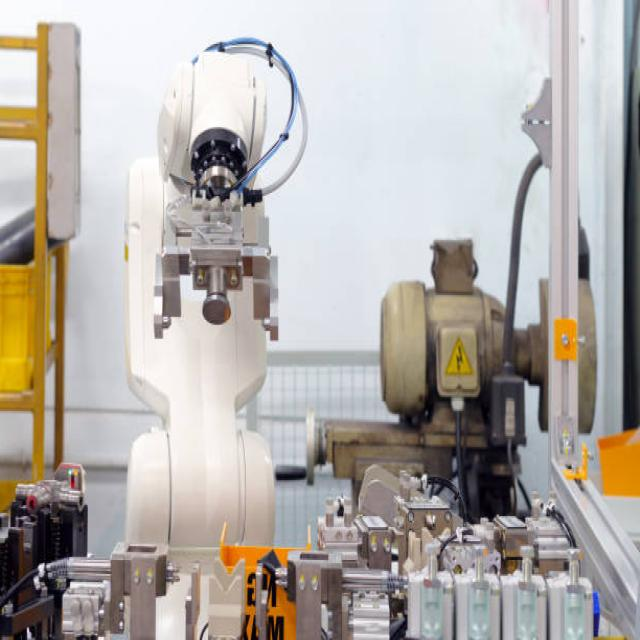Robotic-arm: (110, 21, 312, 566)
